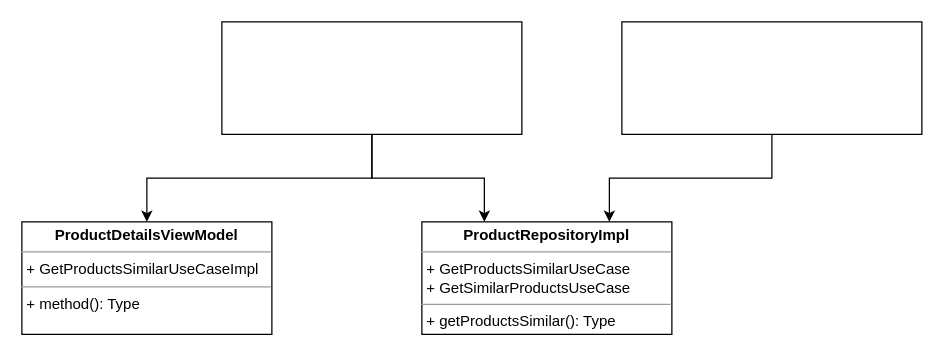
This 944x356 diagram has some shape labels left out. Here are the shapes that lost their labels. From the top down, the centre of each, then its label:
At [371,77]: "GetProductsSimilarUseCaseImpl + field: Type + method(): Type".
At [771,77]: "GetSimilarProductsUseCaseImpl + field: Type + method(): Type".
